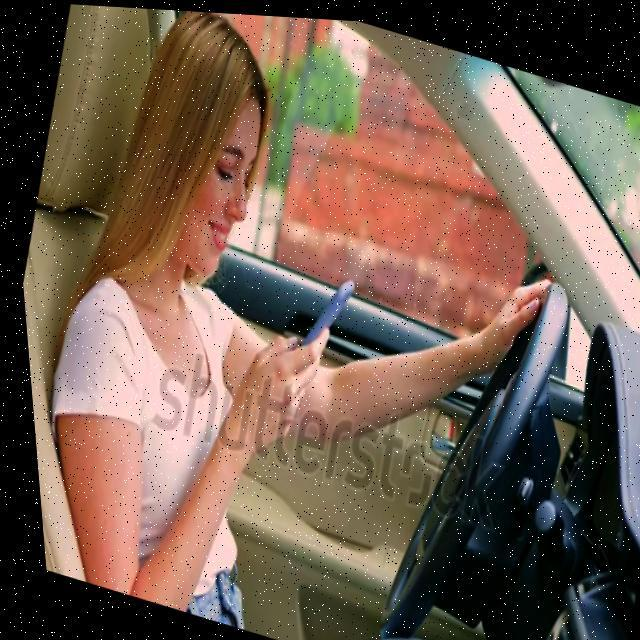PhoneCall: (288, 264, 356, 366)
